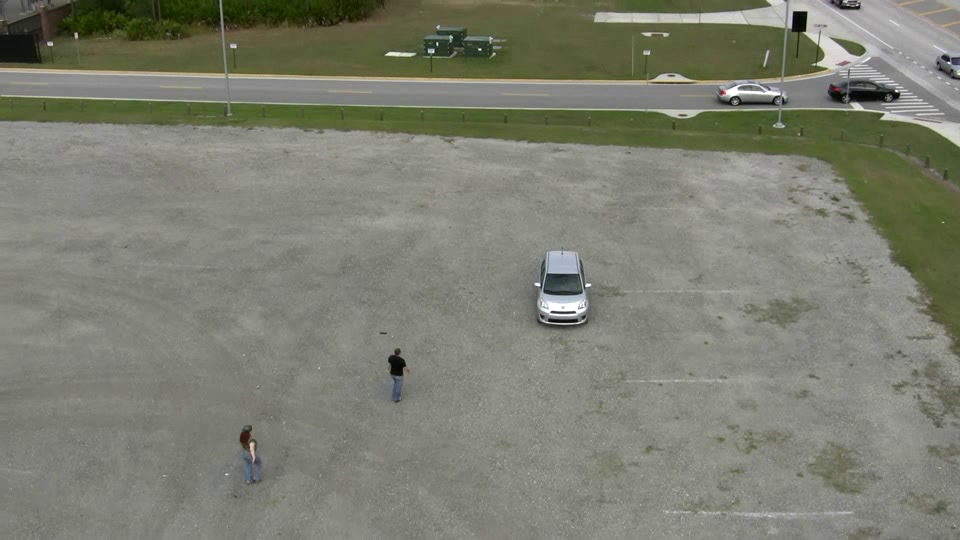vehicle: (533, 248, 593, 327), (827, 76, 900, 104), (715, 79, 790, 106)
